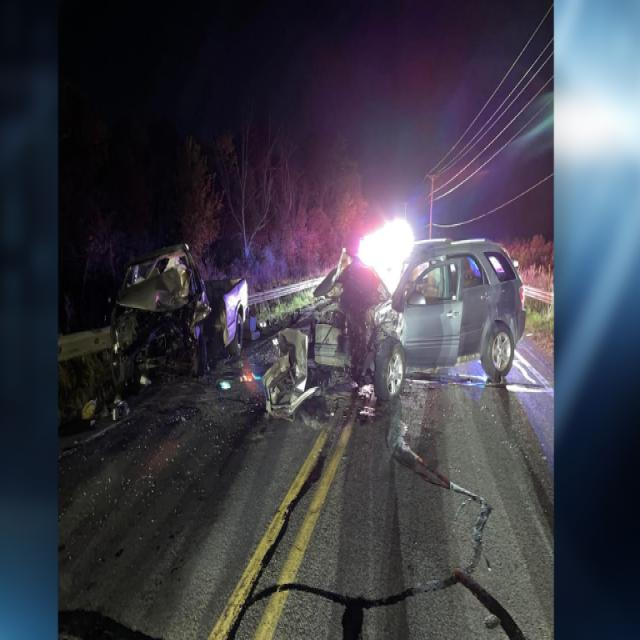Accident: (261, 244, 527, 425), (100, 228, 250, 388)
